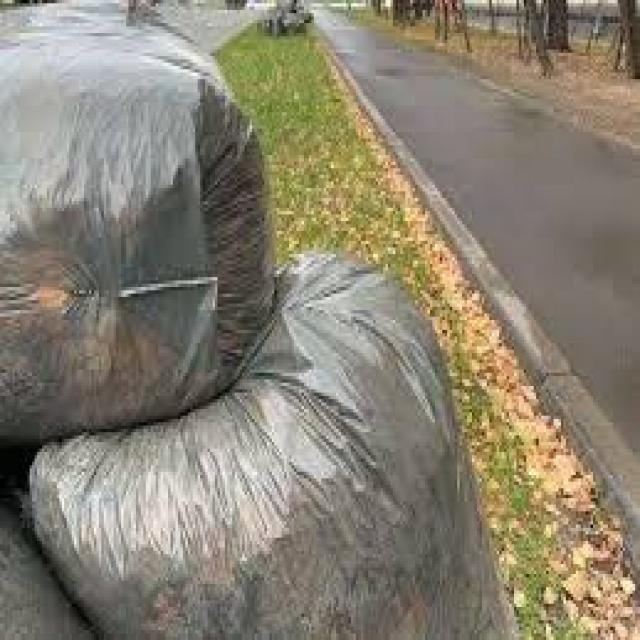plastic_bag: (9, 265, 505, 640), (3, 4, 268, 427)
